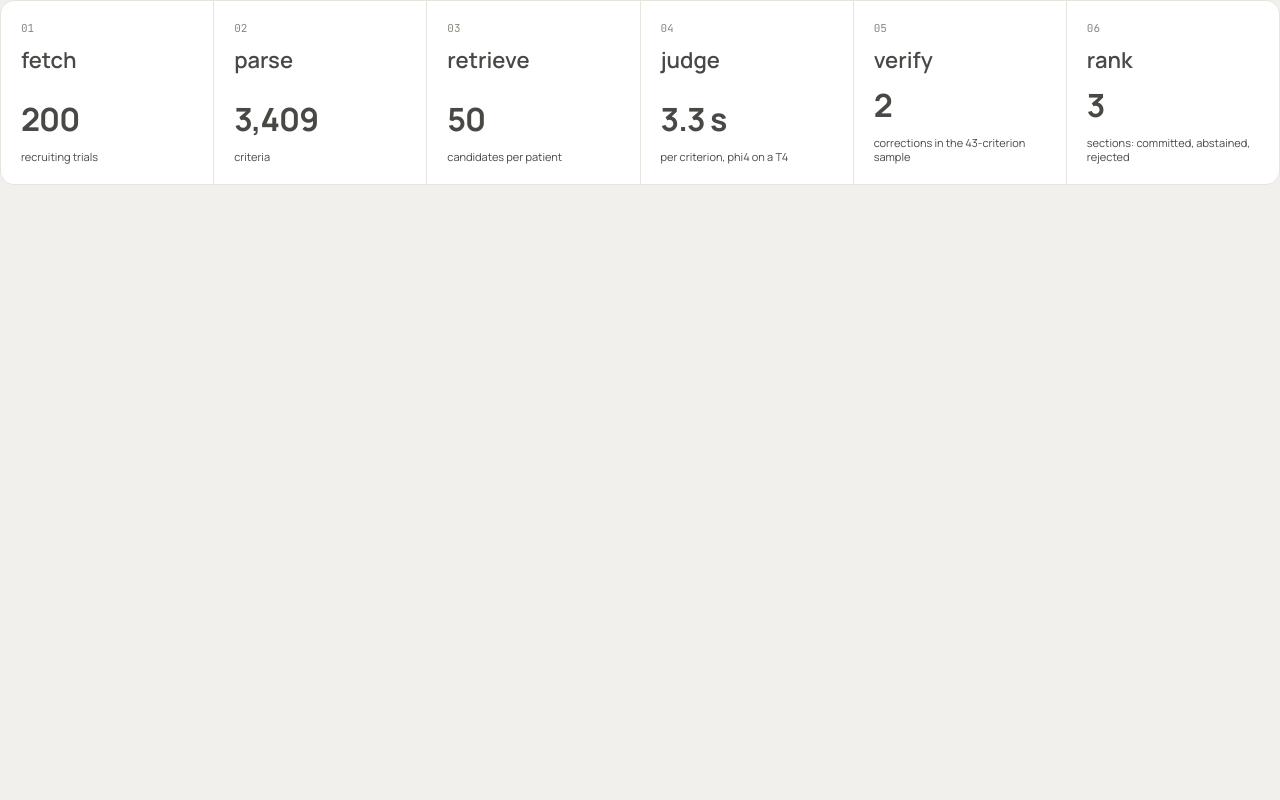
Test: Pipeline › closes on Escape and returns focus to the stage
Click the button "04 judge 3.3 s per criterion, phi4 on a T4" at (747, 93), box [640,1,853,184]
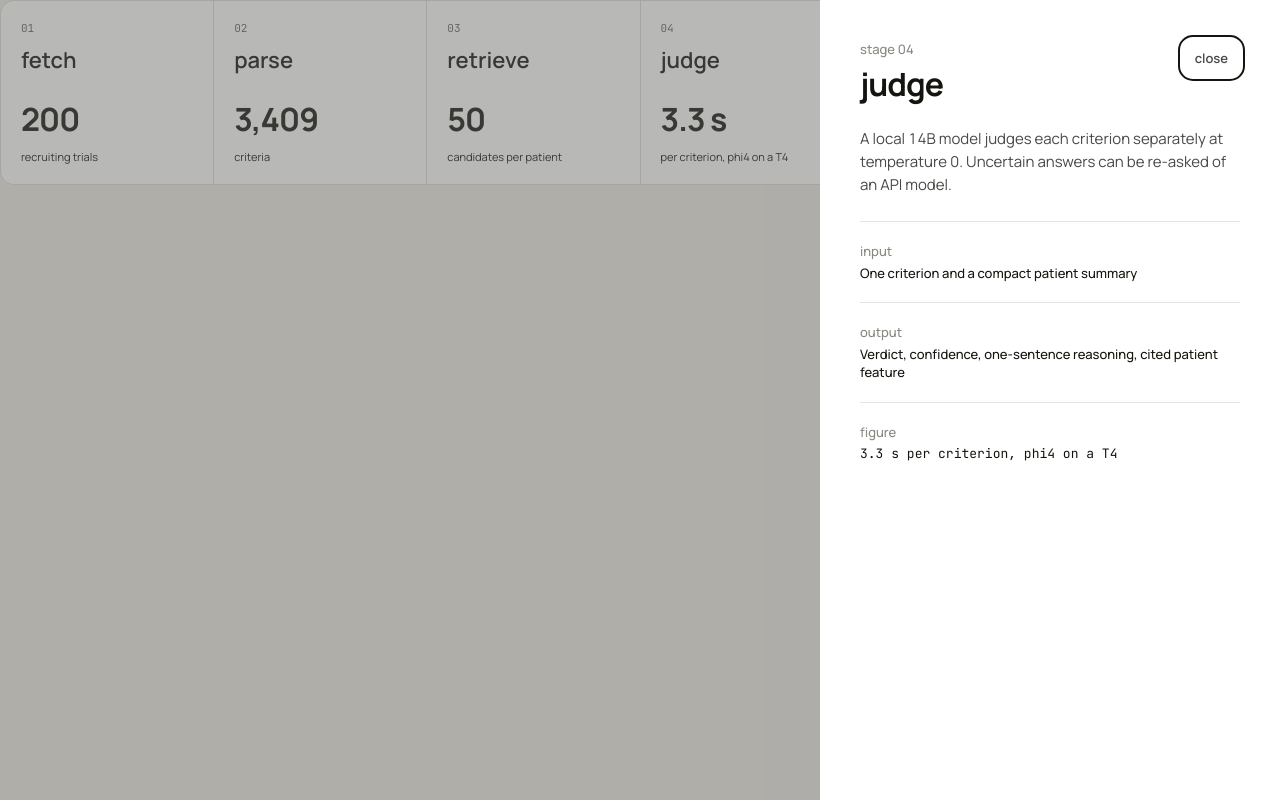
Check: the dialog is shown, box [820,0,1279,799]
Press Escape
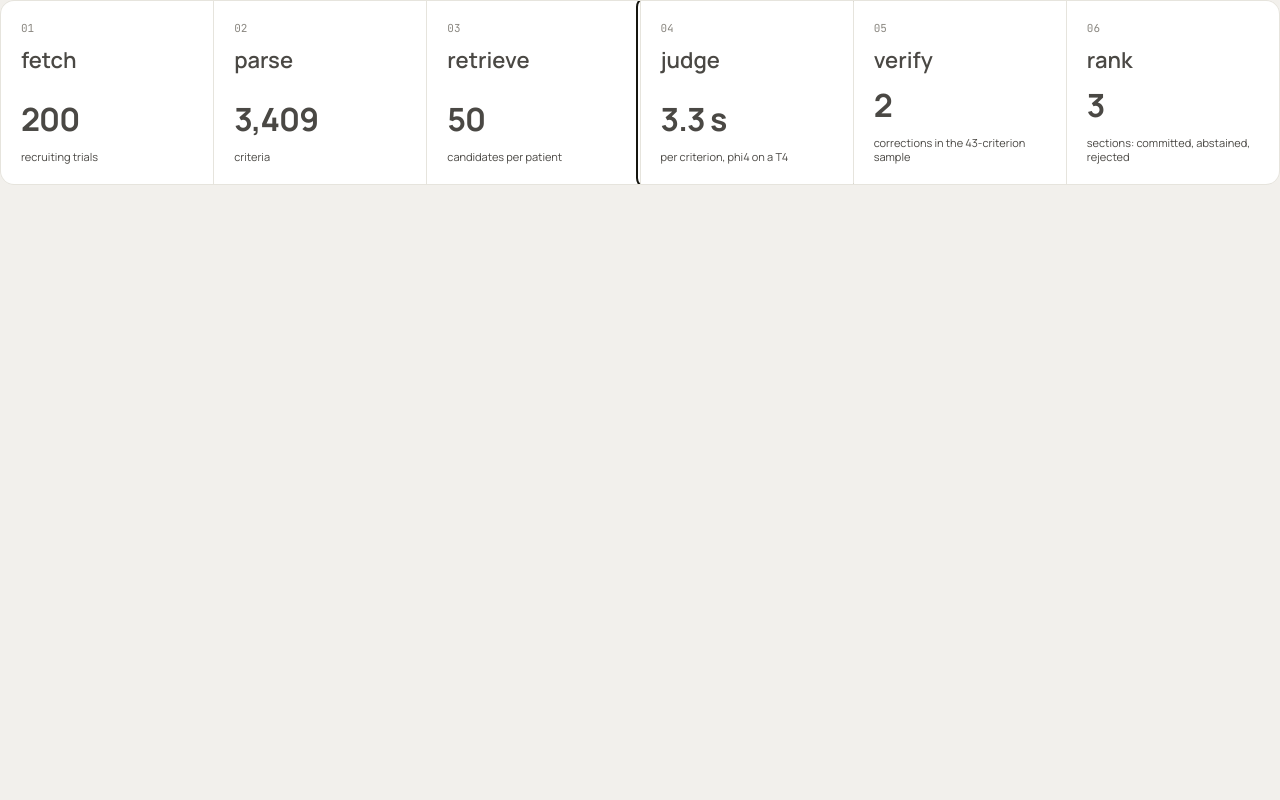
Check: the dialog is gone
